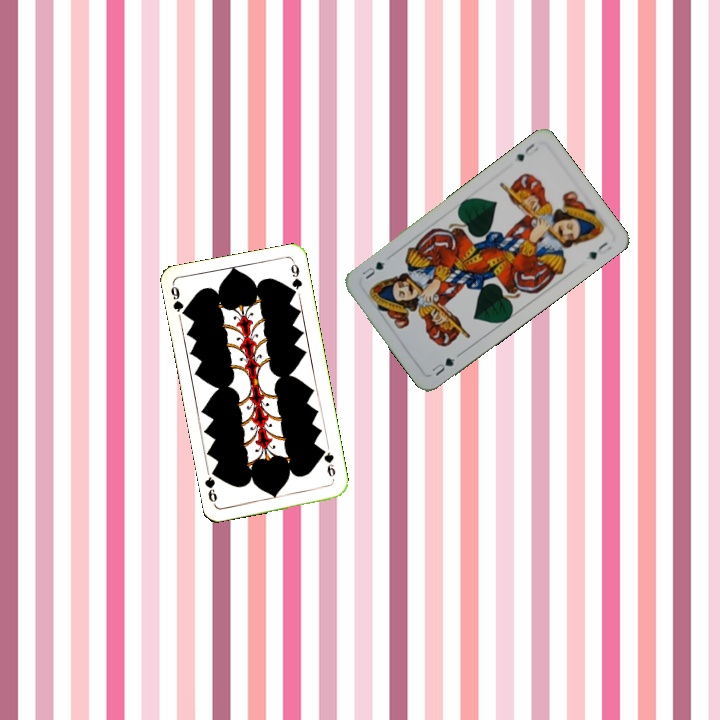G9: (167, 281, 190, 319), (318, 445, 338, 480)
GU: (428, 353, 457, 379), (511, 139, 541, 164)
